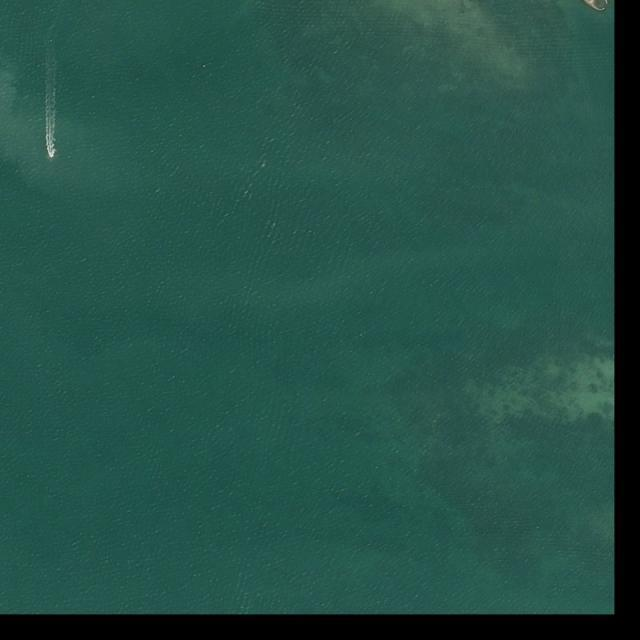ship: (50, 153, 54, 159)
